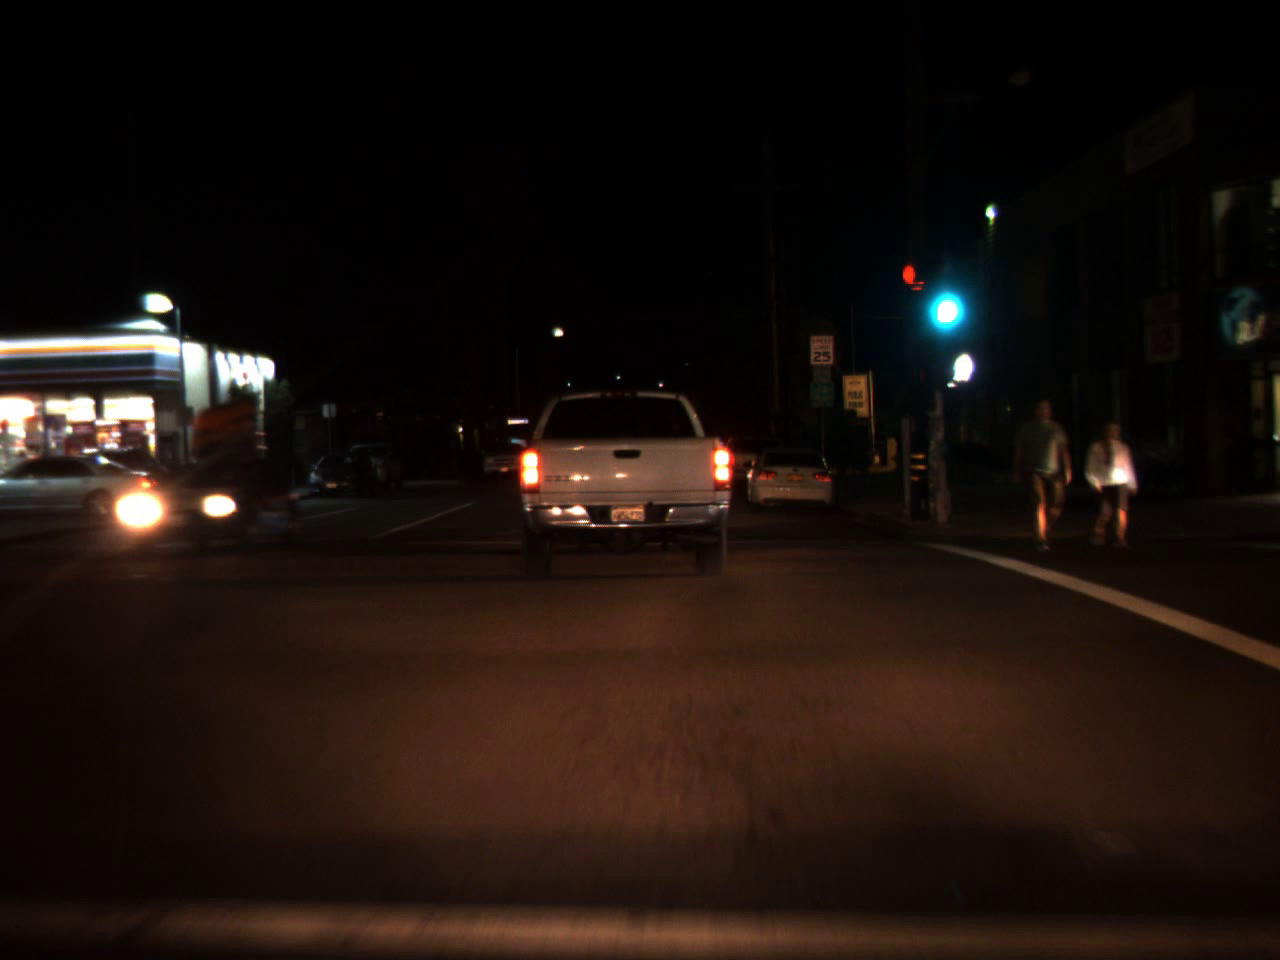go: (917, 253, 967, 340)
